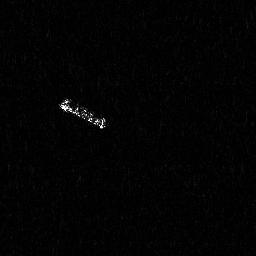ship: (56, 95, 109, 132)
